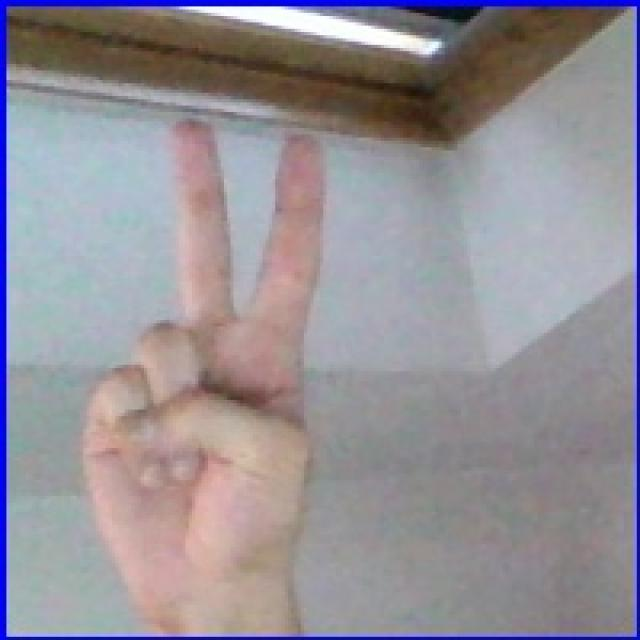Letra-V: (54, 104, 357, 603)
